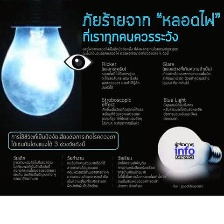light_bulb: (0, 18, 77, 121), (155, 121, 223, 175)
